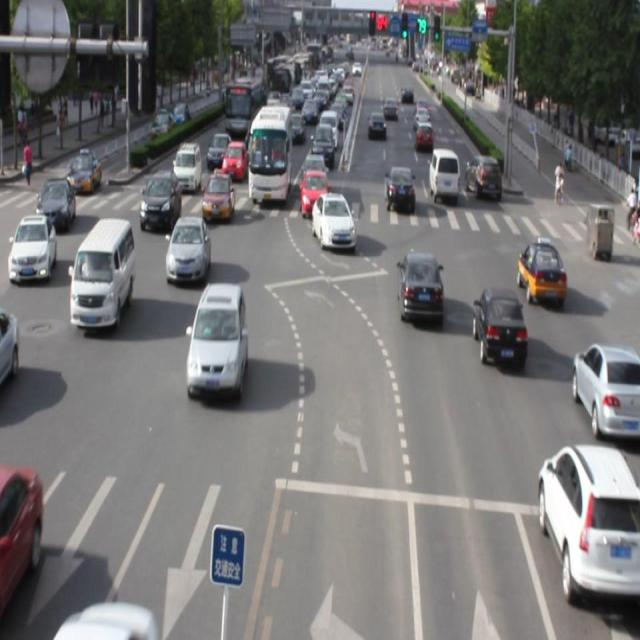car: (536, 443, 640, 596), (184, 280, 247, 400), (571, 343, 640, 436), (1, 464, 44, 598), (472, 286, 526, 367), (397, 253, 443, 321), (164, 214, 208, 284), (517, 240, 565, 302), (311, 196, 355, 253), (141, 169, 179, 230), (200, 174, 235, 224)
truck: (70, 216, 135, 329)
